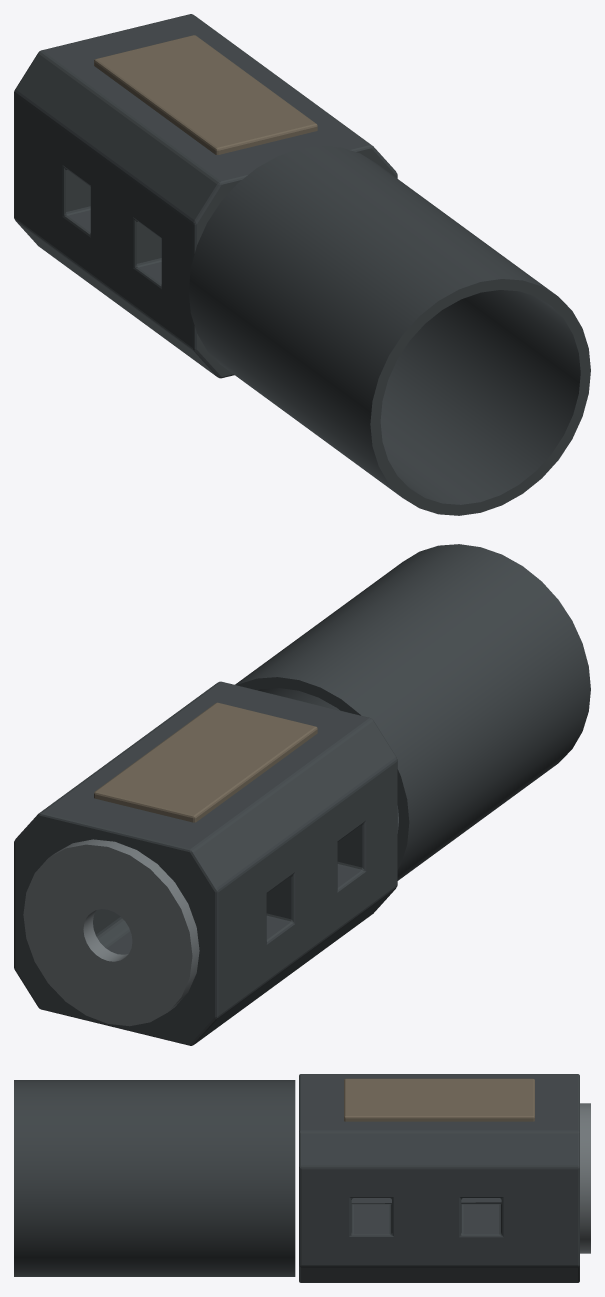
Rendered from compensator.glb.
3 renders of one model, top to bottom at view 1: azimuth 30°, elevation 25°; view 2: azimuth 150°, elevation 25°; view 3: azimuth 270°, elevation 25°, orthographic. The views are drawn at different scales.
Parts seen in each view (by area): view 1: compensator_metal, compensator_Bronze_spine; view 2: compensator_metal, compensator_Crown_lip, compensator_Bronze_spine; view 3: compensator_metal, compensator_Bronze_spine, compensator_Crown_lip.
Boxes of the visible parts, box(x1,y1,x2,y2) form: compensator_metal: box(14, 14, 590, 515); compensator_Bronze_spine: box(94, 35, 317, 154); compensator_metal: box(14, 544, 590, 1045); compensator_Crown_lip: box(23, 839, 199, 1026); compensator_Bronze_spine: box(94, 702, 317, 822); compensator_metal: box(14, 1074, 579, 1282); compensator_Bronze_spine: box(344, 1078, 534, 1121); compensator_Crown_lip: box(580, 1103, 590, 1253).
Bounding box in the file's own units: 0.054 × 0.054 × 0.158.
